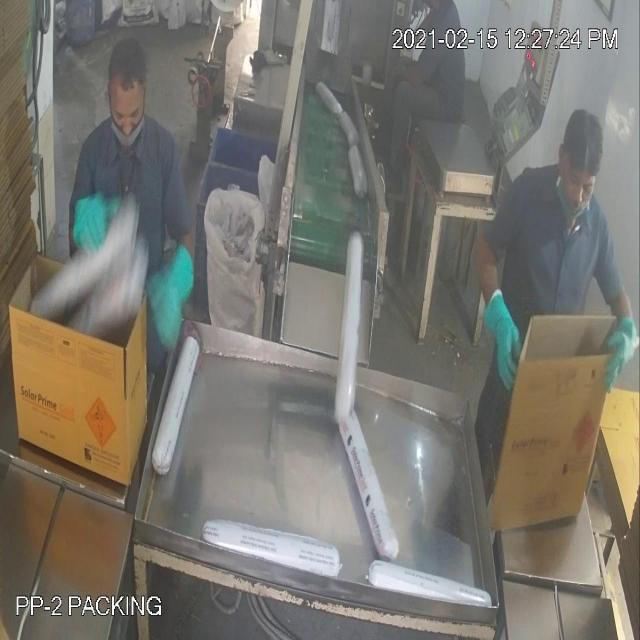Gloves: (38, 84, 618, 338)
